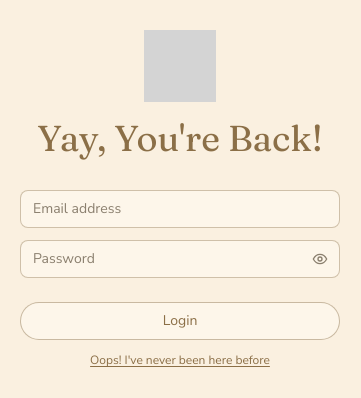
Test: AuthForm › falls back to something readable when the error body is unrecognised
In the field labelled "Email address": (180, 209) [20,190,340,228], type "a@example.com"
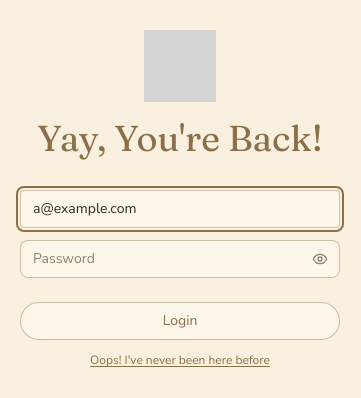
In the password field labelled "Password": (180, 259) [20,240,340,278], type "pw-123-abc"
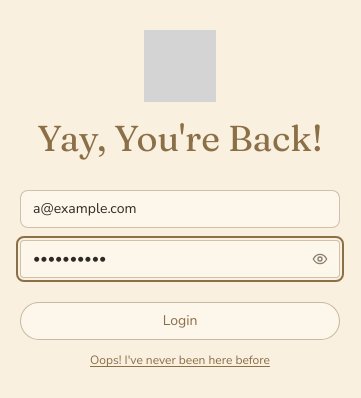
Click the button "Login": (180, 321) [20,302,340,340]
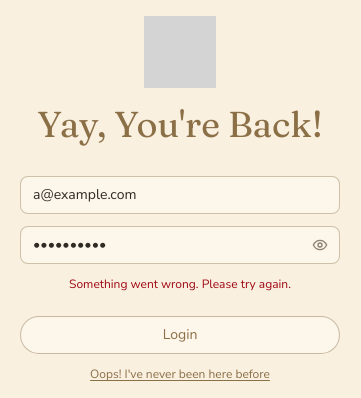
Check: the message reads "Something went wrong. Please try again.", box [69,276,291,292]
